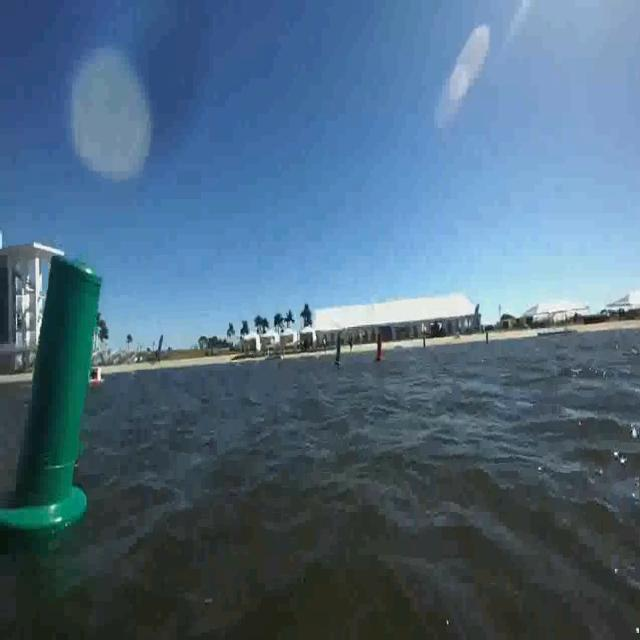green-column-buoy: (2, 259, 104, 533)
